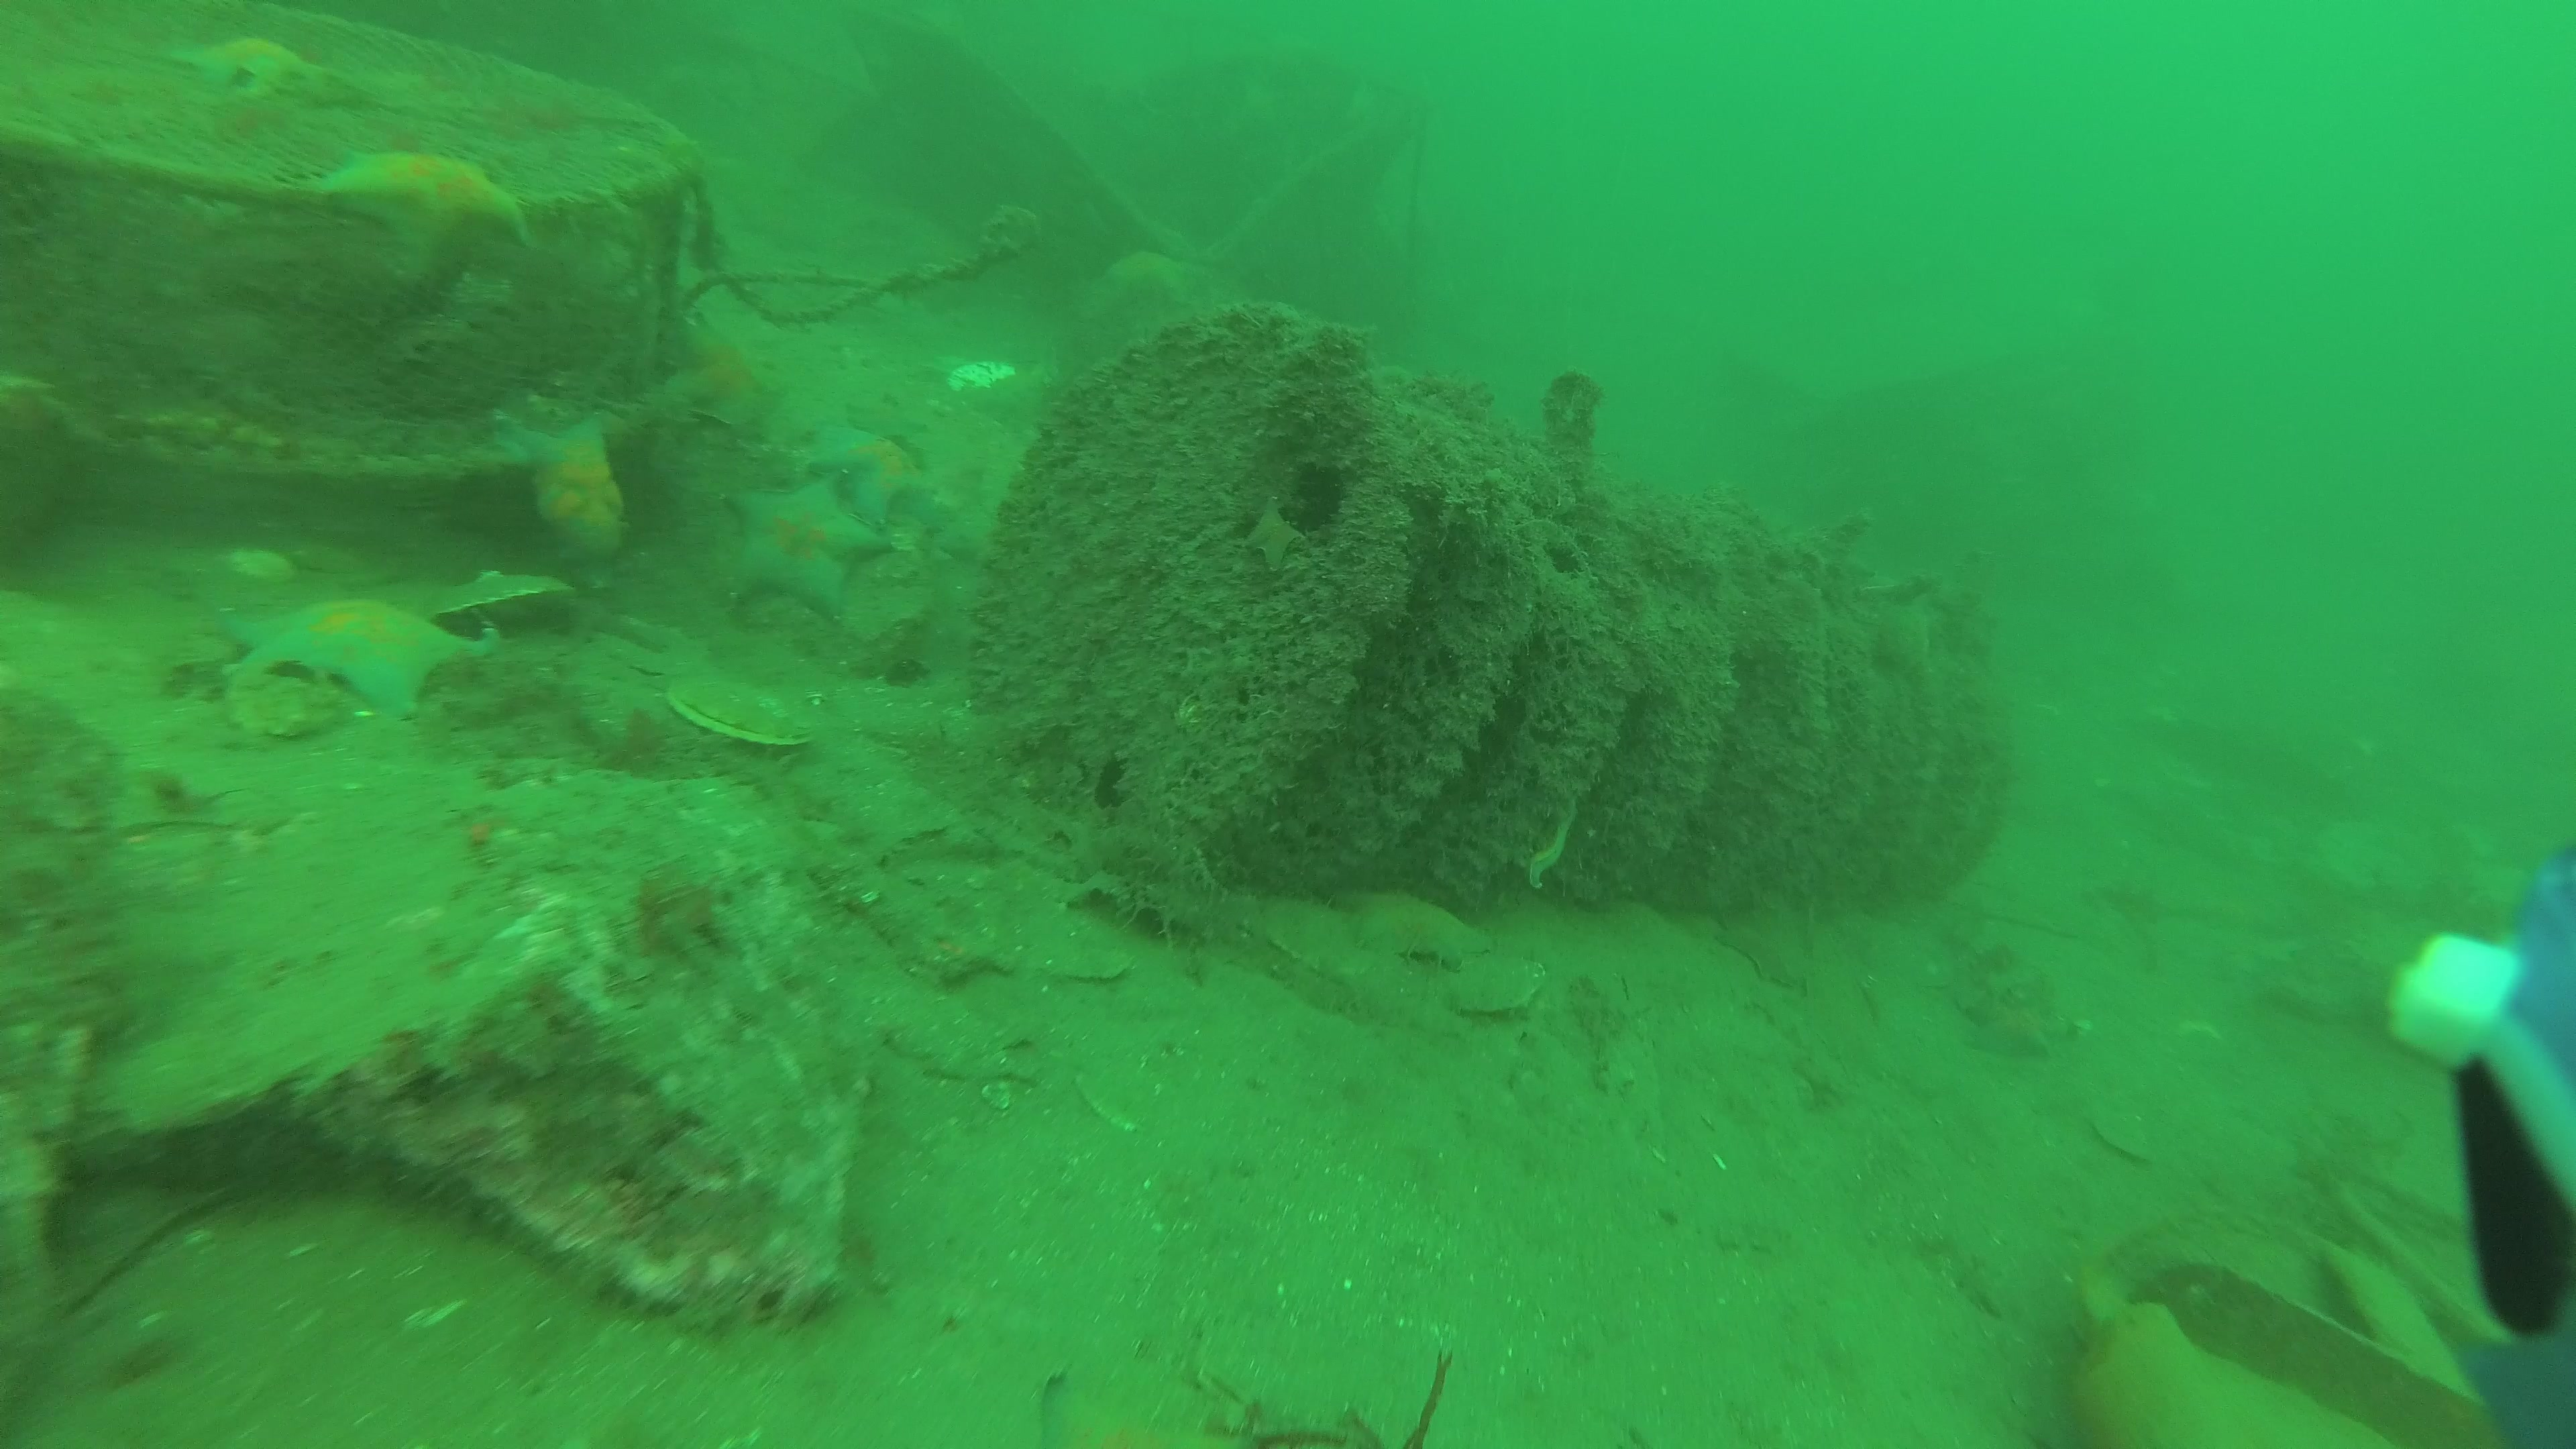scallop: (660, 669, 819, 748), (432, 566, 566, 633)
starfish: (226, 594, 487, 725), (324, 142, 538, 260), (718, 478, 878, 621), (510, 412, 630, 563), (798, 418, 945, 518), (168, 23, 334, 103), (1341, 890, 1479, 964)
